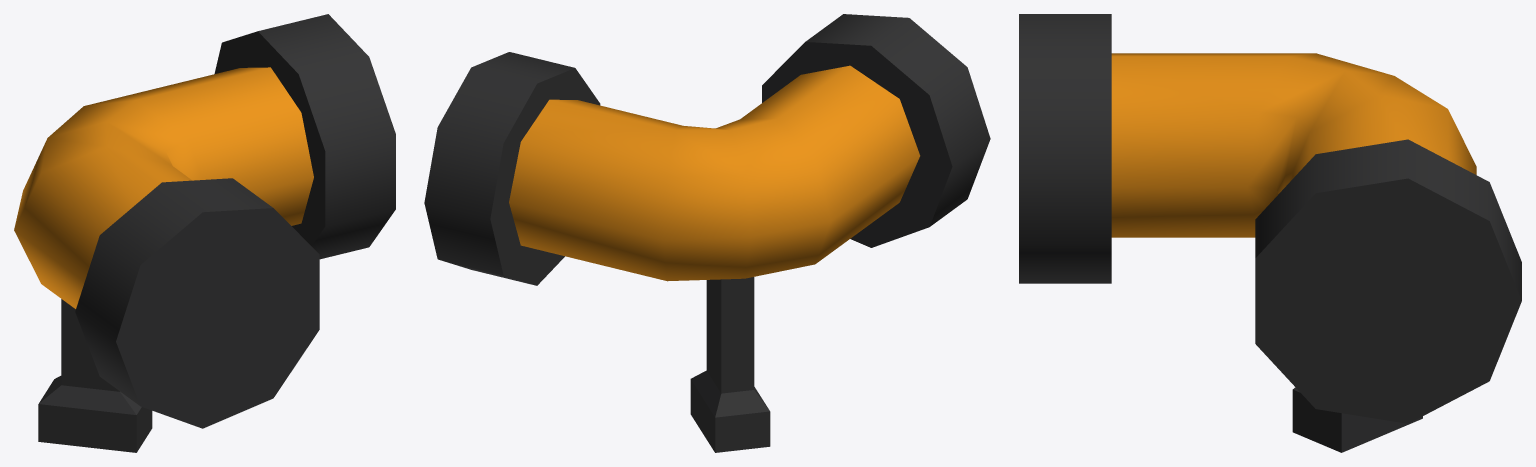
Rendered from Pipe_1_C_3.glb.
3 views of the same model, side by side, from view 1: azimuth 30°, elevation 25°; view 2: azimuth 150°, elevation 25°; view 3: azimuth 270°, elevation 25° (orthographic). The views are drawn at different scales.
Parts seen in each view (by area): view 1: Pipe_1_C_3; view 2: Pipe_1_C_3; view 3: Pipe_1_C_3.
Part boxes in pixels (x1=…): Pipe_1_C_3: x1=14, y1=14, x2=395, y2=452; Pipe_1_C_3: x1=424, y1=14, x2=990, y2=452; Pipe_1_C_3: x1=1019, y1=14, x2=1521, y2=452.
Bounding box in the file's own units: 0.5593 × 0.4763 × 0.5593.
1 material, 1 textured.
